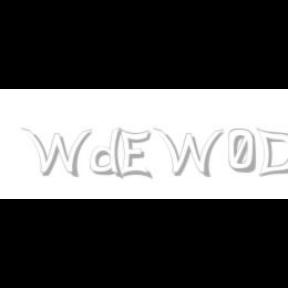0: (228, 128, 260, 174)
E: (118, 128, 152, 180)
W: (20, 128, 92, 178), (152, 128, 224, 178)
d: (90, 128, 128, 180)
